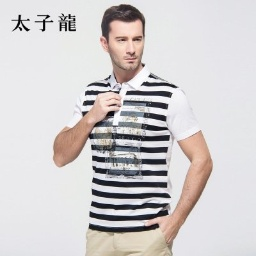face: (99, 4, 147, 73)
